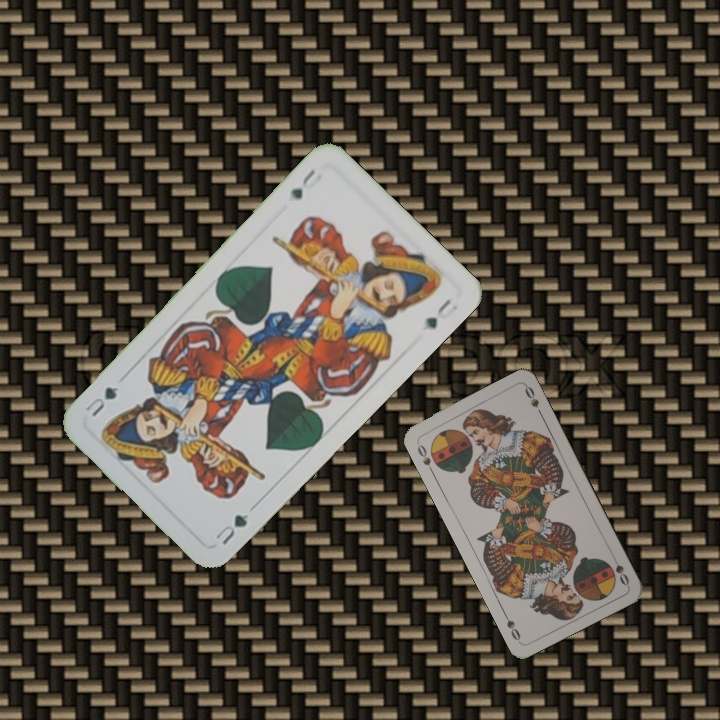GU: (211, 510, 251, 548), (286, 165, 318, 202)
SO: (608, 550, 632, 589), (413, 438, 436, 476)
